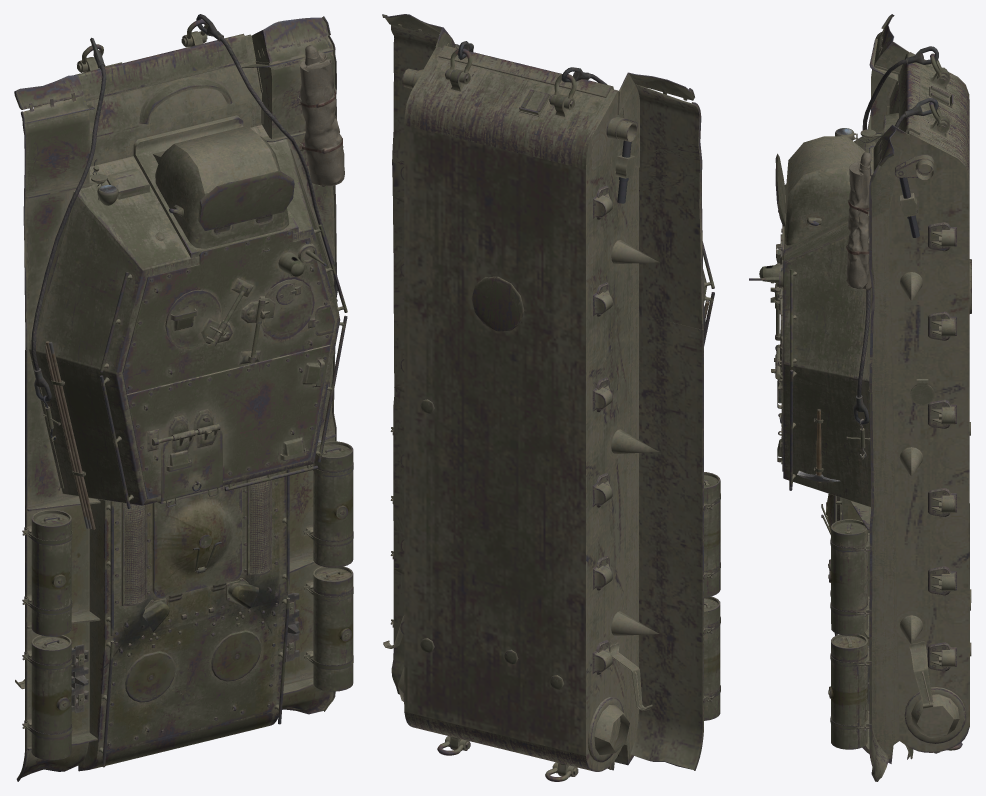
Rendered from Hull.glb.
3 renders of one model, left to right at view 1: azimuth 30°, elevation 25°; view 2: azimuth 150°, elevation 25°; view 3: azimuth 270°, elevation 25°, orthographic. The views are drawn at different scales.
Visible parts, largest first — view 1: set_0_group_0; view 2: set_0_group_0; view 3: set_0_group_0.
Boxes of the visible parts, x1=… form: set_0_group_0: x1=14, y1=14, x2=353, y2=781; set_0_group_0: x1=382, y1=14, x2=720, y2=781; set_0_group_0: x1=749, y1=14, x2=971, y2=781.
Size of the model in its own units: 3.29 by 6.93 by 2.14.
Materials: 1 (1 with a texture image).
